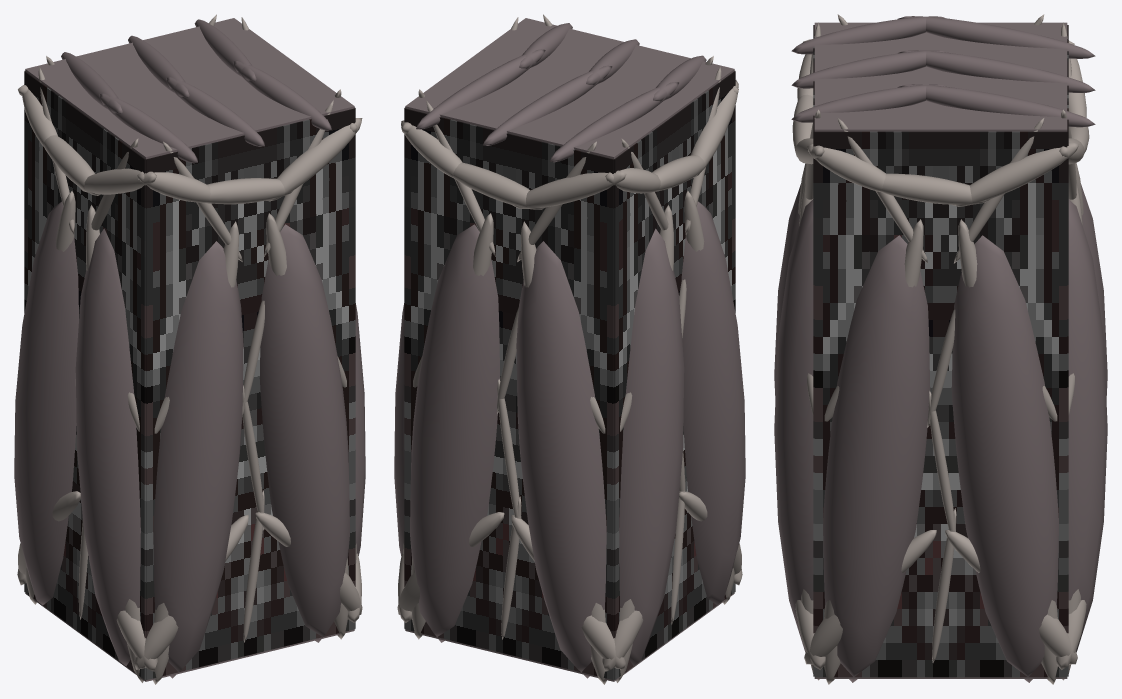
File: CMU3DHiveCMU14XenoThickMyceliumWall.glb
3 views of the same model, side by side, from view 1: azimuth 30°, elevation 25°; view 2: azimuth 150°, elevation 25°; view 3: azimuth 270°, elevation 25° (orthographic). The views are drawn at different scales.
Parts seen in each view (by area): view 1: broad exoskeletal fold (×5), source resin skin front and rear, source resin skin sides, continuous resin backing, sealed roof fold (×6), crown collar (×6), arching load-bearing tendon (×7), lower root buttress (×5), central interlocking seam (×4); view 2: broad exoskeletal fold (×5), source resin skin front and rear, source resin skin sides, continuous resin backing, sealed roof fold (×6), crown collar (×6), arching load-bearing tendon (×7), central interlocking seam (×4), lower root buttress (×4); view 3: broad exoskeletal fold (×6), source resin skin sides, continuous resin backing, sealed roof fold (×6), crown collar (×5), lower root buttress (×6), arching load-bearing tendon (×6), central interlocking seam (×3), source resin skin front and rear (×2).
Part boxes in pixels (left/top/right/bottom): broad exoskeletal fold (×5): left=14, top=201, right=365, bottom=678; source resin skin front and rear: left=146, top=108, right=355, bottom=679; source resin skin sides: left=24, top=71, right=145, bottom=679; continuous resin backing: left=25, top=18, right=354, bottom=681; sealed roof fold (×6): left=61, top=19, right=331, bottom=163; crown collar (×6): left=22, top=89, right=362, bottom=204; arching load-bearing tendon (×7): left=38, top=66, right=333, bottom=287; lower root buttress (×5): left=52, top=491, right=362, bottom=671; central interlocking seam (×4): left=78, top=300, right=264, bottom=642; broad exoskeletal fold (×5): left=394, top=201, right=745, bottom=678; source resin skin front and rear: left=404, top=108, right=613, bottom=679; source resin skin sides: left=614, top=71, right=735, bottom=679; continuous resin backing: left=405, top=18, right=734, bottom=681; sealed roof fold (×6): left=416, top=23, right=706, bottom=162; crown collar (×6): left=401, top=80, right=738, bottom=209; arching load-bearing tendon (×7): left=426, top=66, right=721, bottom=287; central interlocking seam (×4): left=497, top=307, right=685, bottom=639; lower root buttress (×4): left=397, top=512, right=643, bottom=671; broad exoskeletal fold (×6): left=774, top=183, right=1107, bottom=682; source resin skin sides: left=814, top=131, right=1067, bottom=677; continuous resin backing: left=814, top=22, right=1067, bottom=678; sealed roof fold (×6): left=791, top=16, right=1095, bottom=127; crown collar (×5): left=792, top=40, right=1086, bottom=206; lower root buttress (×6): left=795, top=530, right=1086, bottom=669; arching load-bearing tendon (×6): left=824, top=118, right=1057, bottom=684; central interlocking seam (×3): left=927, top=309, right=956, bottom=662; source resin skin front and rear (×2): left=813, top=25, right=1068, bottom=676.
Bounding box in the file's own units: 1.32 × 2.51 × 1.32.
Materials: 3 (1 with a texture image).
